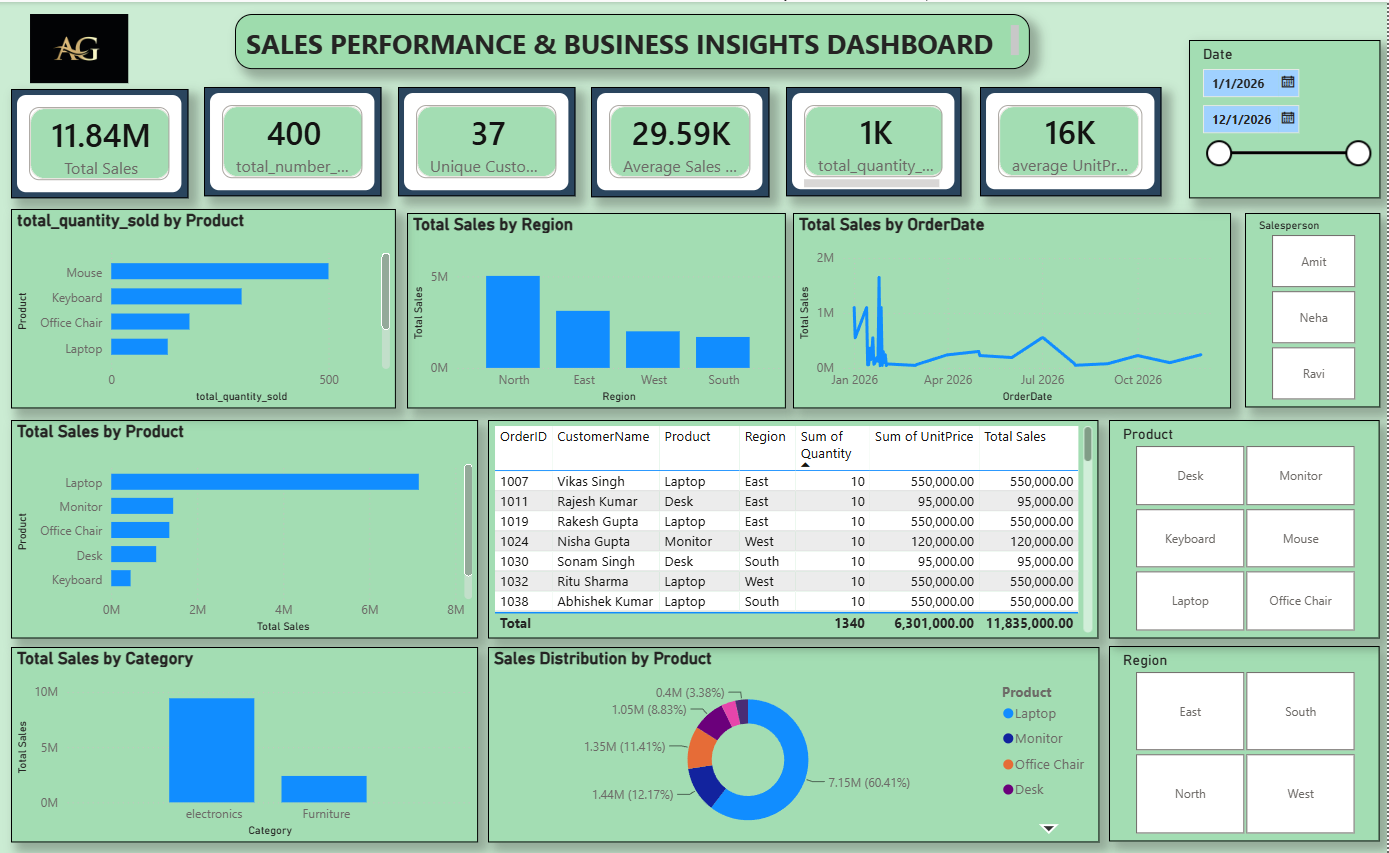

Layout of this report page (visuals, bound fields, positions):
{"tool":"powerbi","page":{"name":"Page 1","canvas":[1400,850],"ordinal":0},"visuals":[{"type":"cardVisual","fields":{"Data":["DimCustomer.Total Sales"]},"box":[27.9,86.8,176.8,109.2],"z":0},{"type":"cardVisual","fields":{"Data":["DimCustomer.total_number_of_orders"]},"box":[220.5,84.8,176.8,109.2],"z":1000},{"type":"cardVisual","fields":{"Data":["DimCustomer.Unique Customers"]},"box":[414,84.8,176.8,109.2],"z":2000},{"type":"cardVisual","fields":{"Data":["DimCustomer.Average Sales Per Order"]},"box":[606.6,84.8,177.6,109.7],"z":3000},{"type":"cardVisual","fields":{"Data":["DimCustomer.total_quantity_sold"]},"box":[801.1,84.8,174.6,108.7],"z":4000},{"type":"cardVisual","fields":{"Data":["DimCustomer.average UnitPrice"]},"box":[994.7,84.8,180.6,108.7],"z":5000},{"type":"clusteredColumnChart","fields":{"Category":["DimRegion.Region"],"Y":["DimCustomer.Total Sales"]},"box":[423,210.5,378.1,194.5],"z":6000},{"type":"clusteredBarChart","fields":{"Category":["DimProduct.Product"],"Y":["DimCustomer.Total Sales"]},"box":[27.9,416.8,466.3,217.7],"z":7000},{"type":"clusteredColumnChart","fields":{"Category":["Sales_Data.Category"],"Y":["DimCustomer.Total Sales"]},"box":[27.9,643.8,466.3,195],"z":8000},{"type":"clusteredBarChart","fields":{"Category":["DimProduct.Product"],"Y":["DimCustomer.total_quantity_sold"]},"box":[27.9,206.5,384.1,198.5],"z":9000},{"type":"lineChart","fields":{"Category":["Sales_Data.OrderDate"],"Y":["DimCustomer.Total Sales"]},"box":[808.1,210.5,437,194.5],"z":10000},{"type":"donutChart","title":"Sales Distribution by Product","fields":{"Category":["DimRegion.Region","DimProduct.Product"],"Y":["DimCustomer.Total Sales"]},"box":[503.5,643.8,609.7,195],"z":11000},{"type":"tableEx","fields":{"Values":["Sales_Data.OrderID","DimCustomer.CustomerName","DimProduct.Product","DimRegion.Region","Sum(Sales_Data.Quantity)","Sum(Sales_Data.UnitPrice)","DimCustomer.Total Sales"]},"box":[503.5,416.8,608.7,217.7],"z":12000},{"type":"slicer","fields":{"Values":["DimRegion.Region"]},"box":[1123.4,642.5,270.4,194.5],"z":13000},{"type":"slicer","fields":{"Values":["DimProduct.Product"]},"box":[1123.5,416.8,270.3,217.7],"z":14000},{"type":"slicer","fields":{"Values":["DimDate.Date"]},"box":[1203.2,37.9,190.6,157.6],"z":15000},{"type":"textbox","box":[251.7,12.4,792.6,54.7],"z":16000},{"type":"slicer","fields":{"Values":["Sales_Data.Salesperson"]},"box":[1258.7,210.5,135.2,194],"z":17000},{"type":"image","box":[36.9,12,117.7,68.8],"z":18000}]}

Visuals, with their boxes in screenshot pixels (x1, y1, x2, y2), scaled from the page's 1400x850 canvas onto the 1389x853 screenshot:
cardVisual - DimCustomer.Total Sales: select_region(28, 87, 203, 197)
cardVisual - DimCustomer.total_number_of_orders: select_region(219, 85, 394, 195)
cardVisual - DimCustomer.Unique Customers: select_region(411, 85, 586, 195)
cardVisual - DimCustomer.Average Sales Per Order: select_region(602, 85, 778, 195)
cardVisual - DimCustomer.total_quantity_sold: select_region(795, 85, 968, 194)
cardVisual - DimCustomer.average UnitPrice: select_region(987, 85, 1166, 194)
clusteredColumnChart - DimRegion.Region x DimCustomer.Total Sales: select_region(420, 211, 795, 406)
clusteredBarChart - DimProduct.Product x DimCustomer.Total Sales: select_region(28, 418, 490, 637)
clusteredColumnChart - Sales_Data.Category x DimCustomer.Total Sales: select_region(28, 646, 490, 842)
clusteredBarChart - DimProduct.Product x DimCustomer.total_quantity_sold: select_region(28, 207, 409, 406)
lineChart - Sales_Data.OrderDate x DimCustomer.Total Sales: select_region(802, 211, 1235, 406)
"Sales Distribution by Product" donutChart: select_region(500, 646, 1104, 842)
tableEx - Sales_Data.OrderID x DimCustomer.CustomerName: select_region(500, 418, 1103, 637)
slicer - DimRegion.Region: select_region(1115, 645, 1383, 840)
slicer - DimProduct.Product: select_region(1115, 418, 1383, 637)
slicer - DimDate.Date: select_region(1194, 38, 1383, 196)
textbox: select_region(250, 12, 1036, 67)
slicer - Sales_Data.Salesperson: select_region(1249, 211, 1383, 406)
image: select_region(37, 12, 153, 81)
